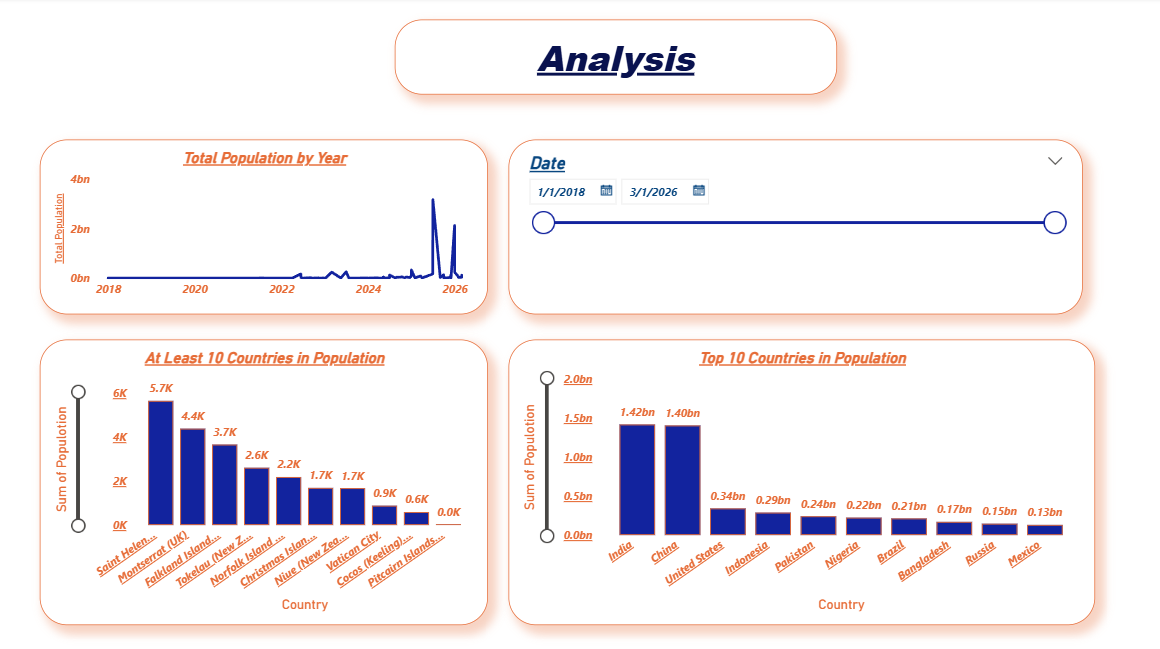

This screenshot's page, from the dashboard's own definition file:
{"tool":"powerbi","page":{"name":"Analysis Dashboard","canvas":[1280,720],"ordinal":1},"visuals":[{"type":"textbox","box":[437.3,25.3,485.3,82.7],"z":0},{"type":"lineChart","title":"Total Population by Year","fields":{"Y":["Data.Total Population"],"Category":["Data.Date.Variation.Date Hierarchy.Year","Data.Date.Variation.Date Hierarchy.Quarter","Data.Date.Variation.Date Hierarchy.Month","Data.Date.Variation.Date Hierarchy.Day"]},"box":[48,156,492,192],"z":1000},{"type":"clusteredColumnChart","title":"Top 10 Countries in Population","fields":{"Category":["Data.Country"],"Y":["Sum(Data.Populotion)"]},"box":[562.7,376,644,313.3],"z":2000},{"type":"clusteredColumnChart","title":"At Least 10 Countries in Population","fields":{"Category":["Data.Country"],"Y":["Sum(Data.Populotion)"]},"box":[48,376,492,313.3],"z":3000},{"type":"slicer","fields":{"Values":["Data.Date"]},"box":[562.7,156,630.7,192],"z":3001}]}

Visuals, with their boxes in screenshot pixels (x1, y1, x2, y2), scaled from the page's 1280x720 canvas onto the 1160x649 screenshot:
textbox: {"left": 396, "top": 23, "right": 836, "bottom": 97}
"Total Population by Year" lineChart: {"left": 44, "top": 141, "right": 489, "bottom": 314}
"Top 10 Countries in Population" clusteredColumnChart: {"left": 510, "top": 339, "right": 1094, "bottom": 621}
"At Least 10 Countries in Population" clusteredColumnChart: {"left": 44, "top": 339, "right": 489, "bottom": 621}
slicer - Data.Date: {"left": 510, "top": 141, "right": 1082, "bottom": 314}
